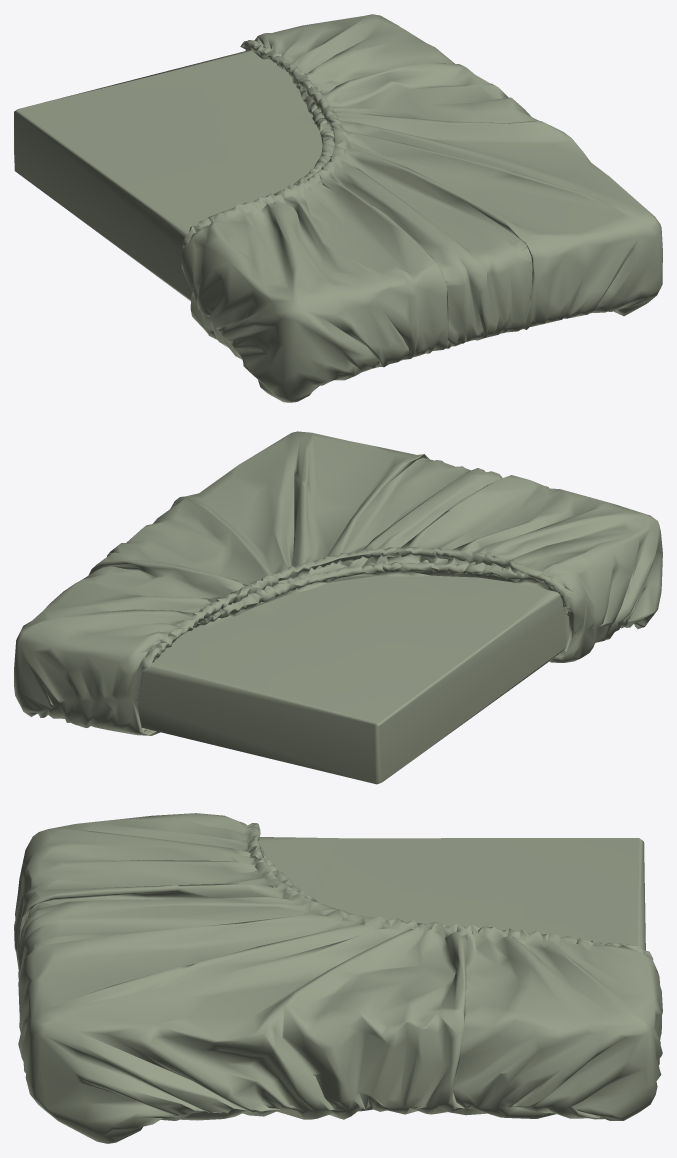
The model's file is dvala_przescierado_z_gumka_20636142.glb.
The picture shows the model from 3 angles, top to bottom: view 1: azimuth 30°, elevation 25°; view 2: azimuth 150°, elevation 25°; view 3: azimuth 270°, elevation 25°; orthographic projection. The views are drawn at different scales.
Visible parts, largest first — view 1: dvala_przescierado_z_gumka_20636142; view 2: dvala_przescierado_z_gumka_20636142; view 3: dvala_przescierado_z_gumka_20636142.
Boxes of the visible parts, <box> form: dvala_przescierado_z_gumka_20636142: <box>14,14,662,402</box>; dvala_przescierado_z_gumka_20636142: <box>14,431,662,784</box>; dvala_przescierado_z_gumka_20636142: <box>14,813,662,1143</box>.
Size of the model in its own units: 0.3408 by 0.1064 by 0.4282.
Materials: 1 (1 with a texture image).
